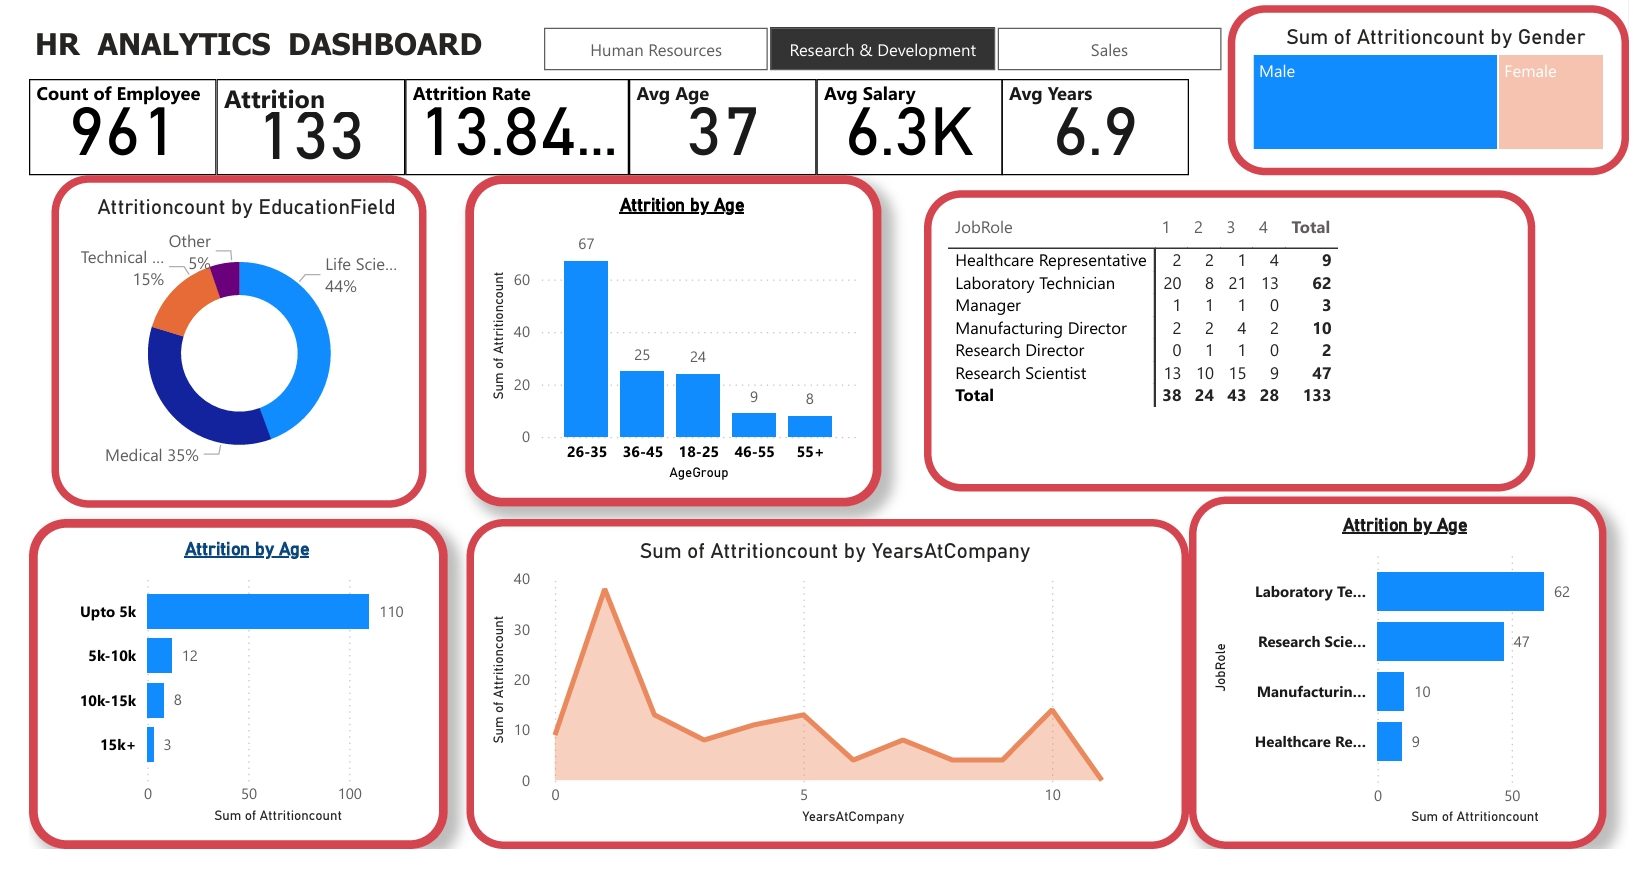

The dashboard page shown, as its layout file describes it:
{"tool":"powerbi","page":{"name":"Page 1","canvas":[1280,720],"ordinal":0},"visuals":[{"type":"card","title":"Count of Employee","fields":{"Values":["CountNonNull(HR_Analytics (2).Attrition)"]},"box":[0,104.3,149.6,76.8],"z":0},{"type":"card","title":"Avg Age","fields":{"Values":["Avg(HR_Analytics (2).Age)"]},"box":[480.3,104.3,149.6,76.8],"z":1000},{"type":"card","title":"Attrition  Rate","fields":{"Values":["HR_Analytics (2).Attrition Rate"]},"box":[300.5,104.3,179.8,76.8],"z":2000},{"type":"card","title":"Attrition","fields":{"Values":["Sum(HR_Analytics (2).Attritioncount)"]},"box":[149.6,104.3,150.9,76.8],"z":3000},{"type":"card","title":"Avg Years","fields":{"Values":["Avg(HR_Analytics (2).YearsAtCompany)"]},"box":[778,104.3,149.6,76.8],"z":4000},{"type":"card","title":"Avg Salary","fields":{"Values":["Avg(HR_Analytics (2).MonthlyIncome)"]},"box":[629.8,104.3,149.6,76.8],"z":5000},{"type":"columnChart","title":"Attrition by Age","fields":{"Category":["HR_Analytics (2).AgeGroup"],"Y":["Sum(HR_Analytics (2).Attritioncount)"]},"box":[348.5,181.1,333.4,264.8],"z":6000},{"type":"barChart","title":"Attrition by Age","fields":{"Y":["Sum(HR_Analytics (2).Attritioncount)"],"Category":["HR_Analytics (2).SalarySlab"]},"box":[0,455.6,334.8,264.8],"z":7000},{"type":"barChart","title":"Attrition by Age","fields":{"Y":["Sum(HR_Analytics (2).Attritioncount)"],"Category":["HR_Analytics (2).JobRole"]},"box":[927.6,437.7,334.8,282.7],"z":8000},{"type":"textbox","box":[0,0,363,71.2],"z":9000},{"type":"donutChart","title":"Attritioncount by EducationField","fields":{"Category":["HR_Analytics (2).EducationField"],"Y":["Sum(HR_Analytics (2).Attritioncount)"]},"box":[17.8,181.1,300.5,266.2],"z":10000},{"type":"pivotTable","fields":{"Rows":["HR_Analytics (2).JobRole"],"Columns":["HR_Analytics (2).JobSatisfaction"],"Values":["Sum(HR_Analytics (2).Attritioncount)"]},"box":[716.3,193.5,488.5,240.1],"z":11000},{"type":"areaChart","fields":{"Category":["HR_Analytics (2).YearsAtCompany"],"Y":["Sum(HR_Analytics (2).Attritioncount)"]},"box":[349.9,455.6,577.7,264.8],"z":12000},{"type":"treemap","fields":{"Values":["Sum(HR_Analytics (2).Attritioncount)"],"Group":["HR_Analytics (2).Gender"]},"box":[959.2,45.3,321.1,135.8],"z":13000},{"type":"slicer","fields":{"Values":["HR_Analytics (2).Department"]},"box":[385.6,56.3,592.8,48],"z":14000},{"type":"textbox","box":[0,56.3,399.3,48],"z":15000}]}

Visuals, with their boxes in screenshot pixels (x1, y1, x2, y2):
"Count of Employee" card: pyautogui.locateOnScreen(30, 74, 216, 170)
"Avg Age" card: pyautogui.locateOnScreen(628, 74, 814, 170)
"Attrition  Rate" card: pyautogui.locateOnScreen(404, 74, 628, 170)
"Attrition" card: pyautogui.locateOnScreen(216, 74, 404, 170)
"Avg Years" card: pyautogui.locateOnScreen(998, 74, 1185, 170)
"Avg Salary" card: pyautogui.locateOnScreen(814, 74, 1000, 170)
"Attrition by Age" columnChart: pyautogui.locateOnScreen(464, 170, 879, 499)
"Attrition by Age" barChart: pyautogui.locateOnScreen(30, 511, 447, 841)
"Attrition by Age" barChart: pyautogui.locateOnScreen(1185, 489, 1601, 841)
textbox: pyautogui.locateOnScreen(30, 0, 482, 33)
"Attritioncount by EducationField" donutChart: pyautogui.locateOnScreen(52, 170, 426, 501)
pivotTable - HR_Analytics (2).JobRole x HR_Analytics (2).JobSatisfaction: pyautogui.locateOnScreen(922, 185, 1530, 484)
areaChart - HR_Analytics (2).YearsAtCompany x Sum(HR_Analytics (2).Attritioncount): pyautogui.locateOnScreen(466, 511, 1185, 841)
treemap - Sum(HR_Analytics (2).Attritioncount) x HR_Analytics (2).Gender: pyautogui.locateOnScreen(1224, 1, 1624, 170)
slicer - HR_Analytics (2).Department: pyautogui.locateOnScreen(510, 14, 1248, 74)
textbox: pyautogui.locateOnScreen(30, 14, 527, 74)
